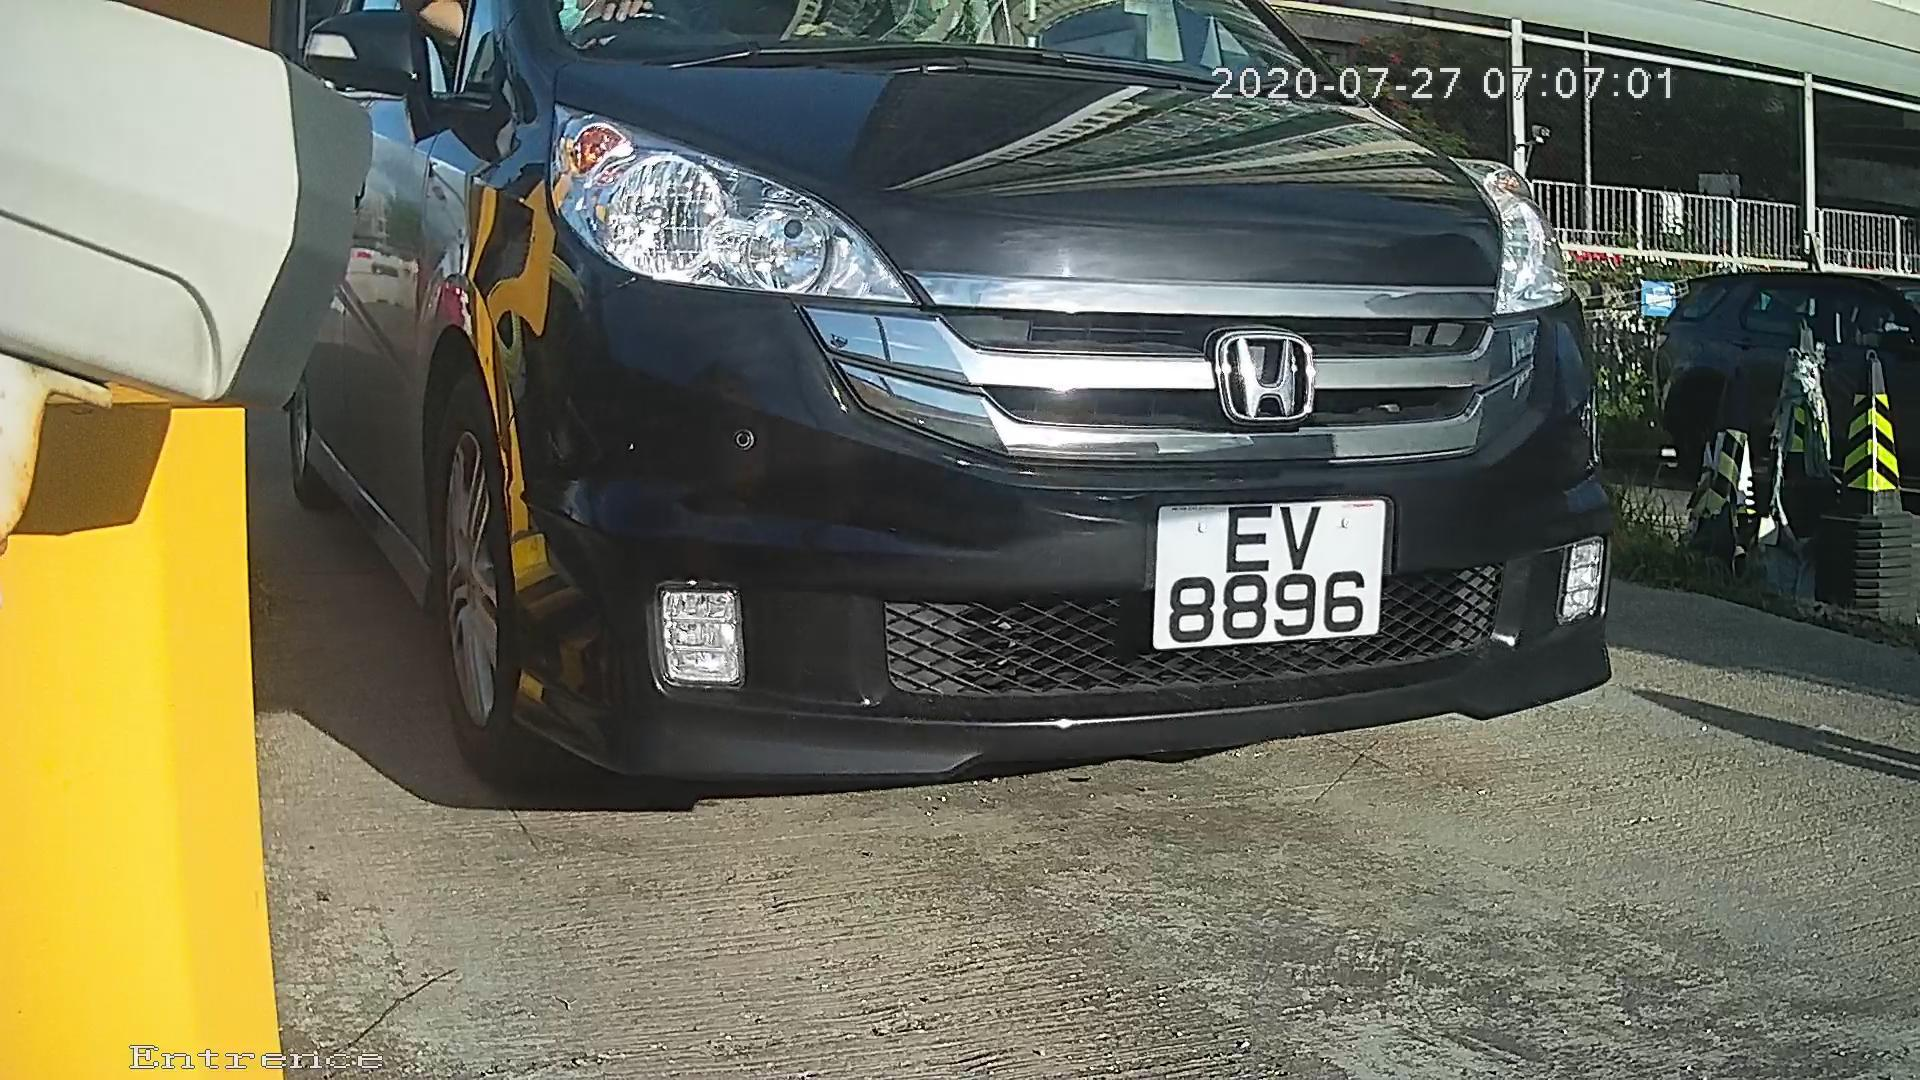Car: (155, 39, 1732, 854)
License Plate: (1132, 487, 1406, 666)
